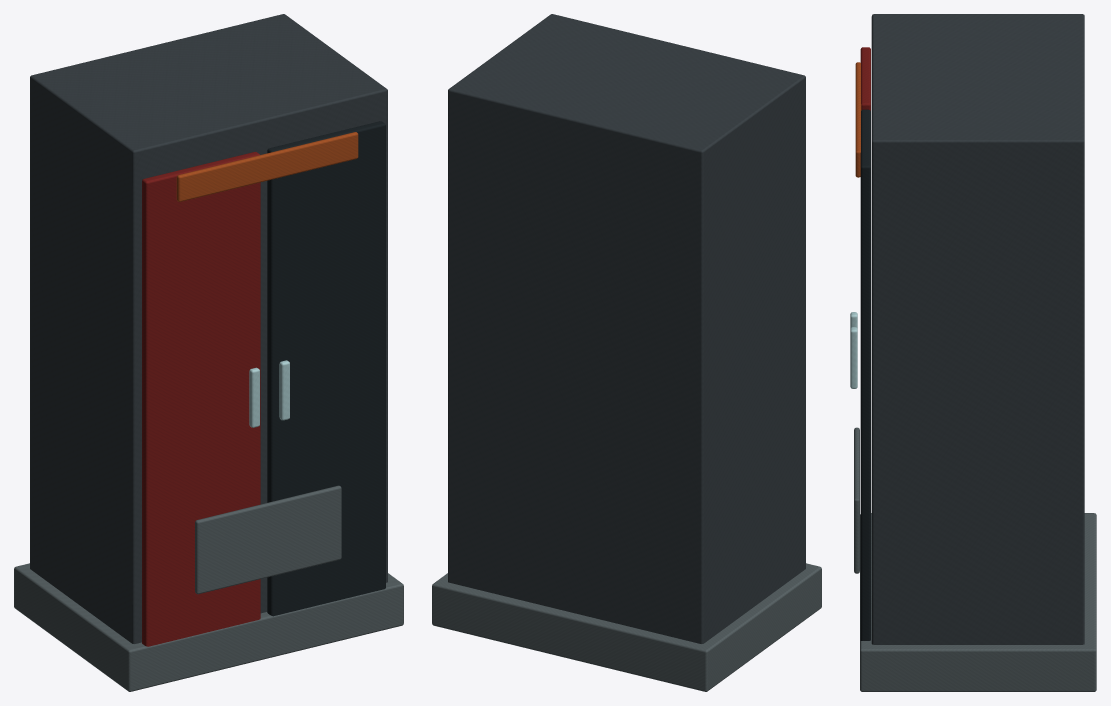
Rendered from ChemicalStorageLocker.fbx.
3 renders of one model, left to right at view 1: azimuth 30°, elevation 25°; view 2: azimuth 150°, elevation 25°; view 3: azimuth 270°, elevation 25°, orthographic. The views are drawn at different scales.
Visible parts, largest first — view 1: ChemicalStorageLocker_Mesh; view 2: ChemicalStorageLocker_Mesh; view 3: ChemicalStorageLocker_Mesh.
Boxes of the visible parts, x1,y1,x2,y2 form: ChemicalStorageLocker_Mesh: [14, 14, 403, 691]; ChemicalStorageLocker_Mesh: [432, 14, 821, 691]; ChemicalStorageLocker_Mesh: [850, 14, 1096, 691].
Bounding box in the file's own units: 110 × 204 × 83.25.
Materials: 6 (6 with a texture image).
